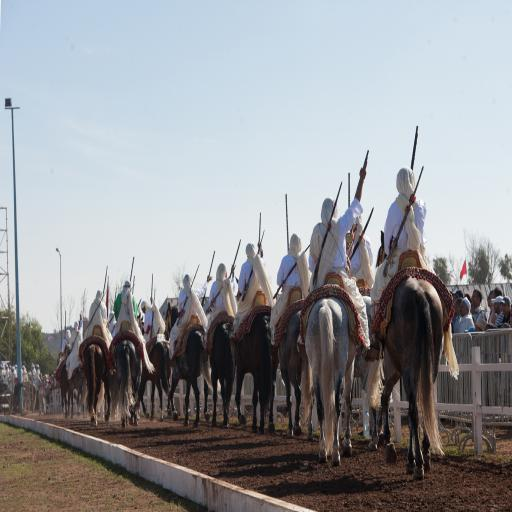horse: (56, 226, 444, 482)
